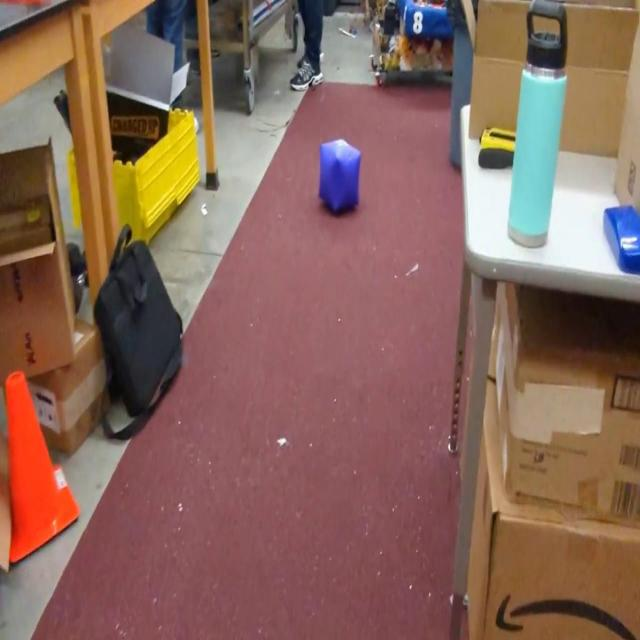frc_cube: (318, 136, 363, 215)
